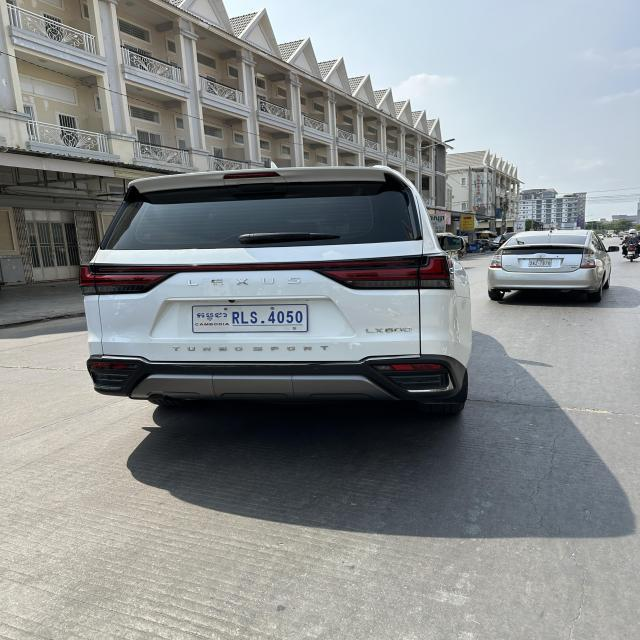Cambodia: (195, 311, 228, 322)
